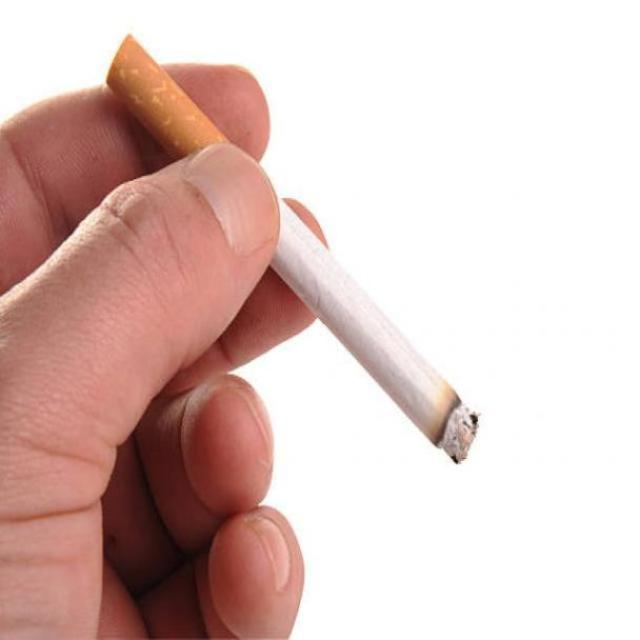rokok: (102, 30, 480, 462)
